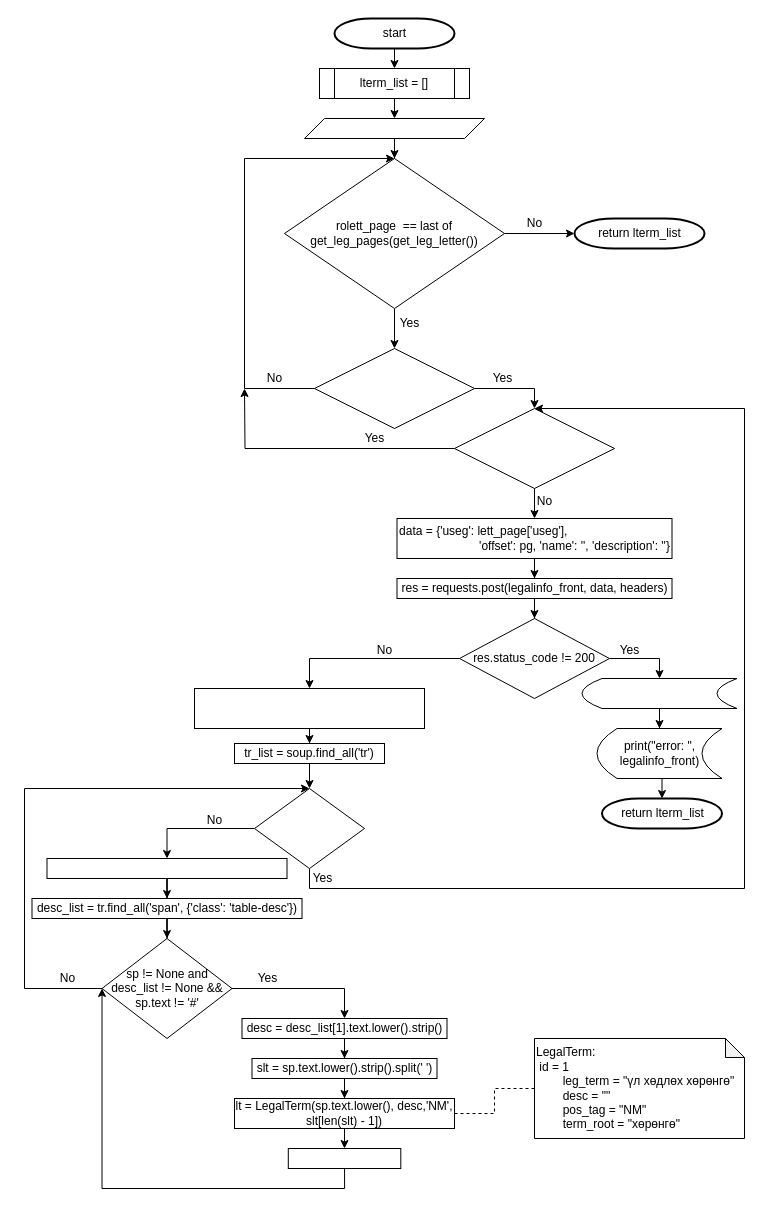
The diagram is 770 pixels wide and 1214 high, and some of its shapes have lost their labels. The shapes that lost their labels are listed below. From the top down, each one's centre as x and y in pixels, then its label:
(394,128): lett_page, legalinfo_front
(394,388): lett_page['pagecnt'] > 0
(534,448): pg in range(1, lett_page['pagecnt'])
(309,708): soup = BeautifulSoup(json.loads(res.text)['Html'], "html.parser")
(659,693): print(res.status_code)
(309,828): tr == last of tr_list
(166,868): sp = tr.find('span', {'class': 'table-desc-bold'})
(344,1158): lterm_list.append(lt)
